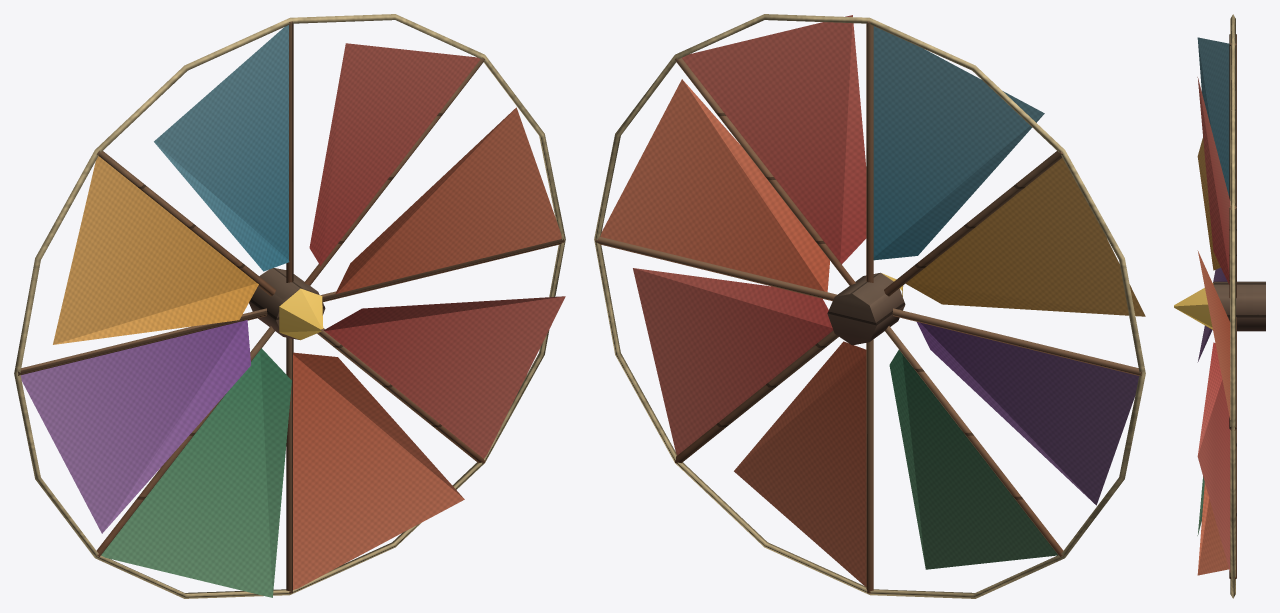
Rendered from catavento-areia.glb.
3 views of the same model, side by side, from view 1: azimuth 30°, elevation 25°; view 2: azimuth 150°, elevation 25°; view 3: azimuth 270°, elevation 25° (orthographic). The views are drawn at different scales.
Visible parts, largest first — view 1: catavento-areia; view 2: catavento-areia; view 3: catavento-areia.
Boxes of the visible parts, left/top/right/bottom form: catavento-areia: left=14, top=14, right=565, bottom=598; catavento-areia: left=594, top=14, right=1145, bottom=598; catavento-areia: left=1174, top=14, right=1265, bottom=598.
Size of the model in its own units: 4.46 by 4.46 by 0.7.
4 materials, 3 textured.
